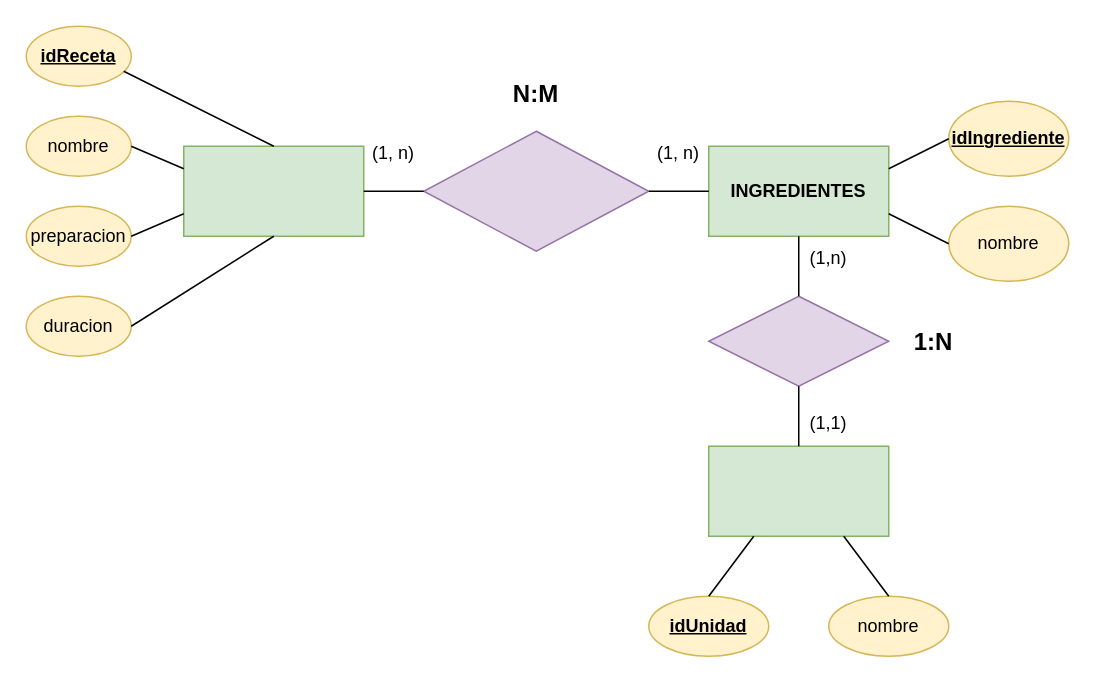
This 1095x683 diagram has some shape labels left out. Here are the shapes that lost their labels. From the top down, the centre of each, then its label:
At pixel 273 190: "RECETA".
At pixel 535 190: "COMPONERSE".
At pixel 798 340: "MEDIR".
At pixel 798 490: "UNIDADES".
